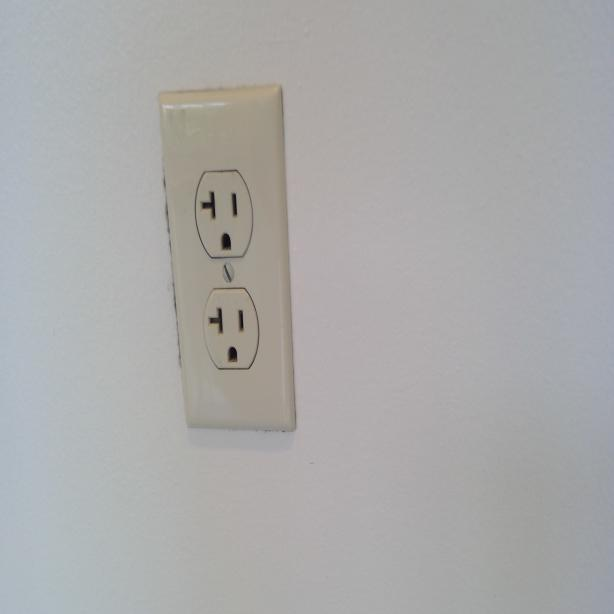typeb: (196, 174, 244, 253), (206, 292, 251, 368)
